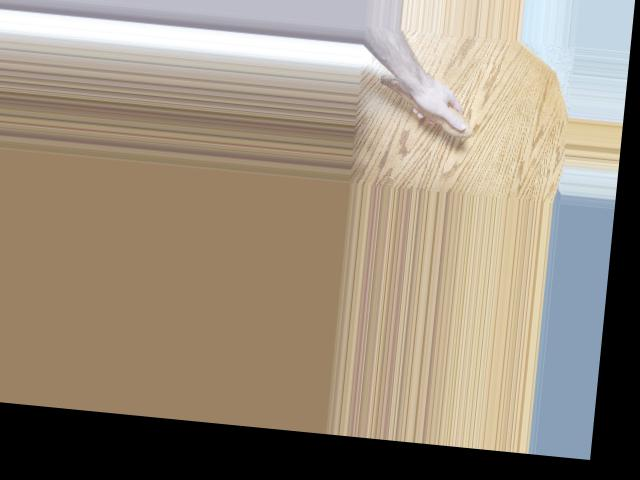sweet_potato: (358, 70, 479, 140)
